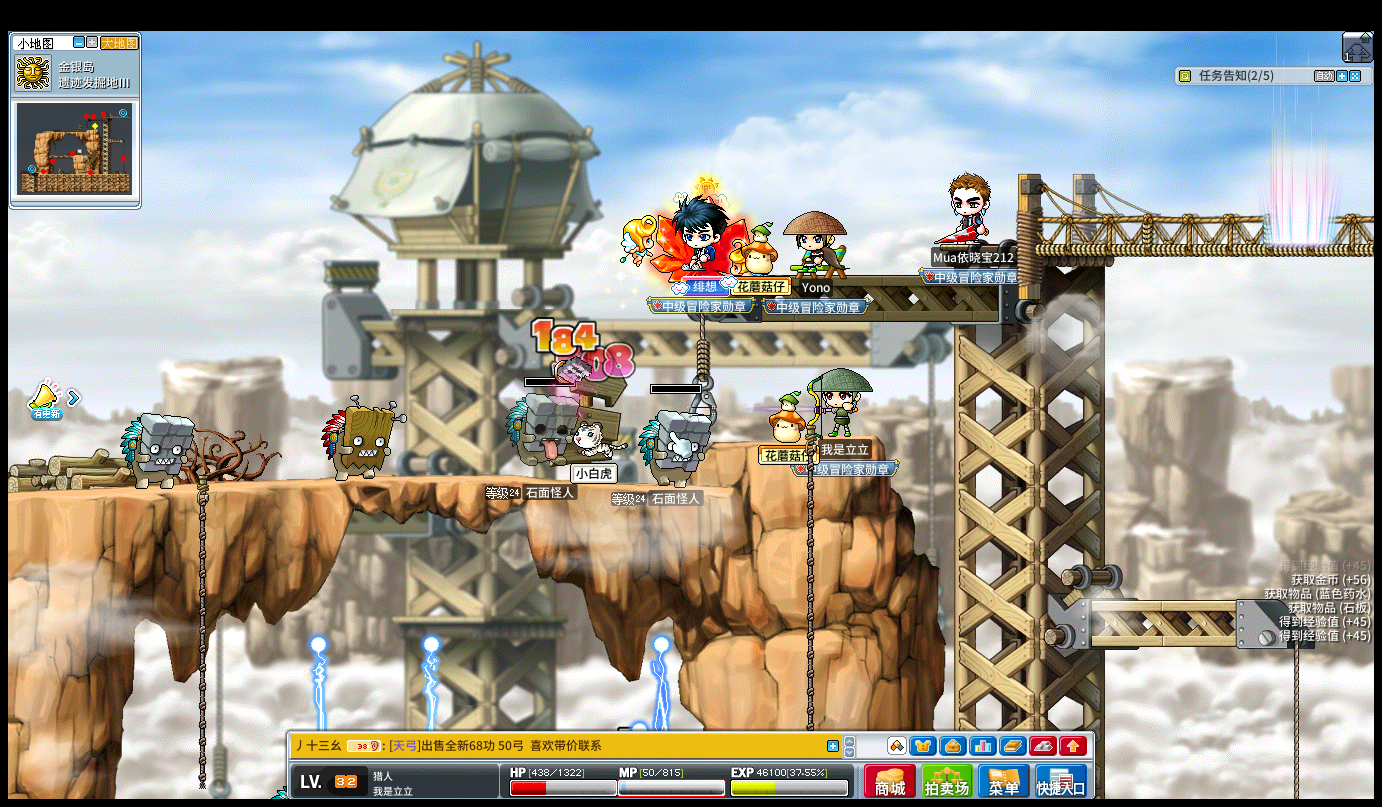floor: (10, 469, 807, 496), (31, 472, 782, 491)
monster: (320, 397, 402, 478), (121, 411, 195, 491), (504, 391, 571, 476), (638, 408, 710, 485)
rope: (192, 466, 208, 794), (802, 398, 817, 725), (1289, 645, 1303, 795)
